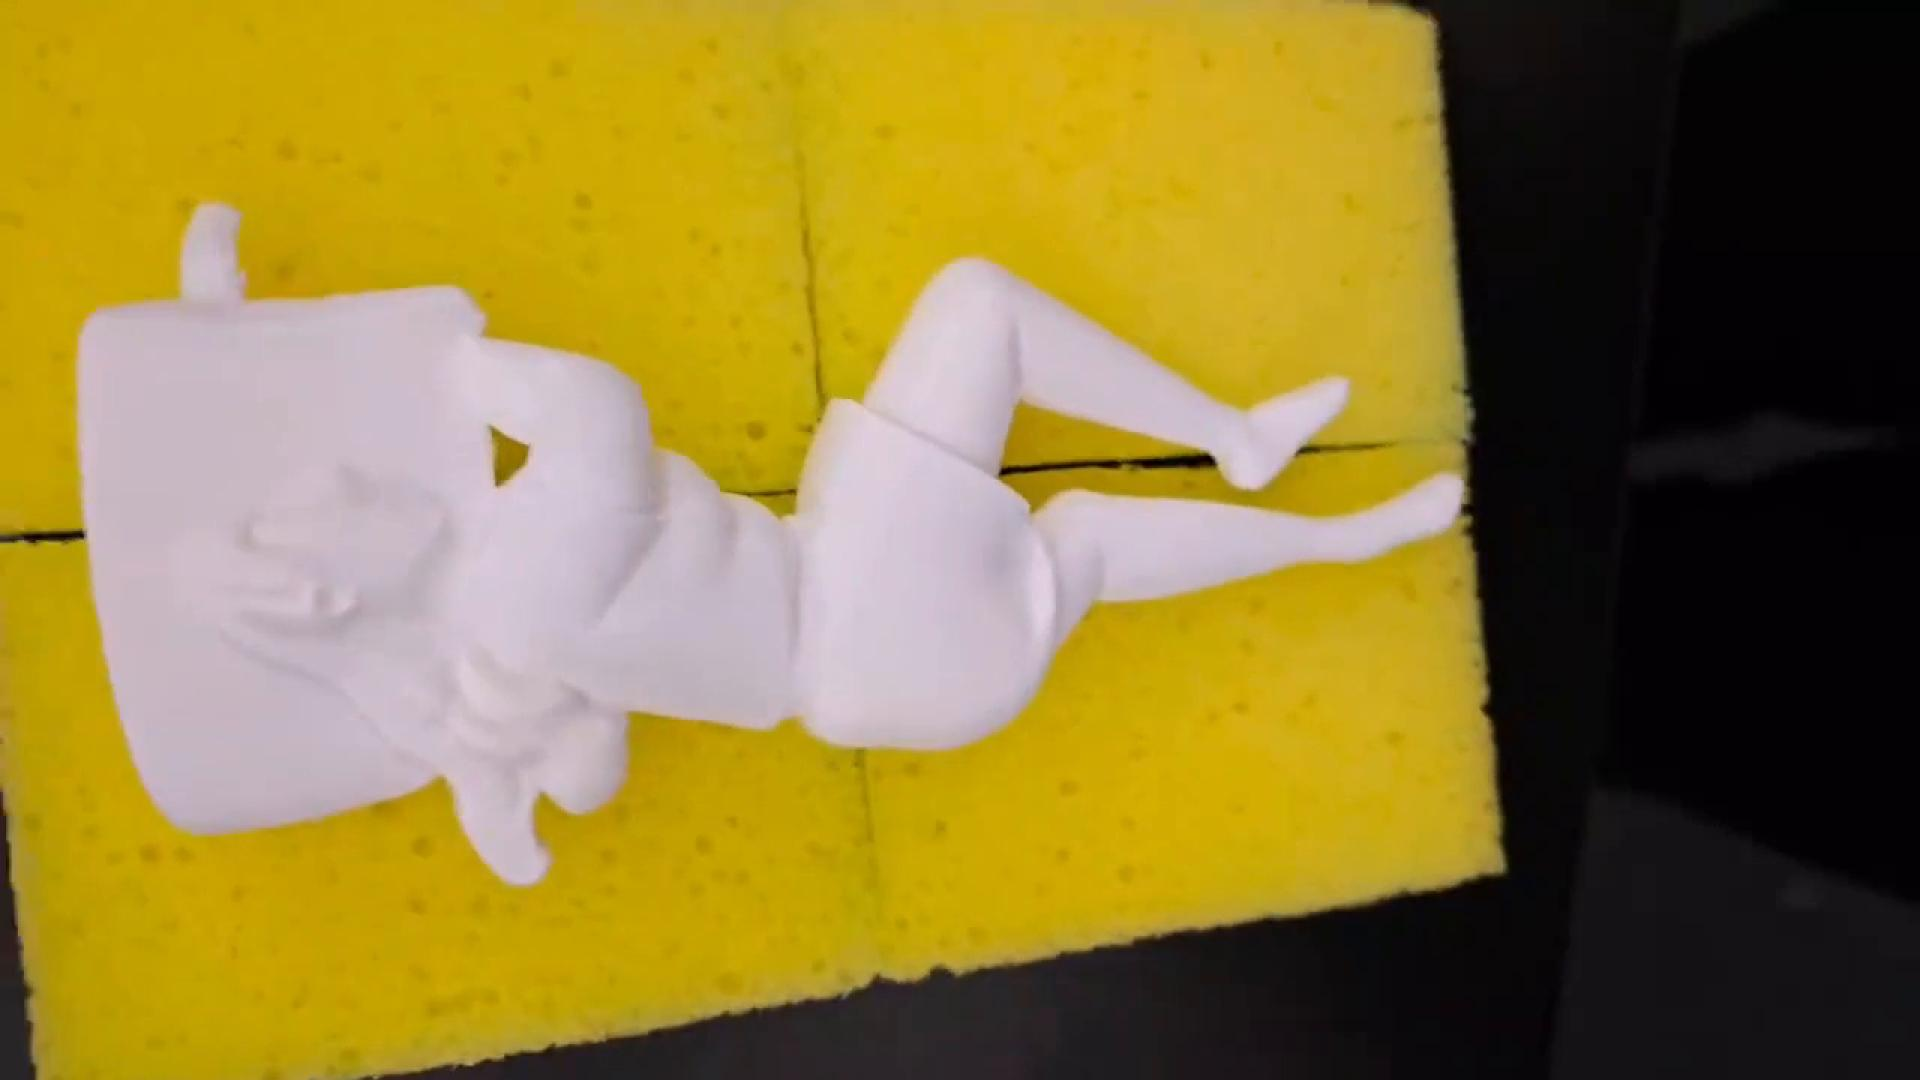Good-style: (71, 199, 1465, 894)
